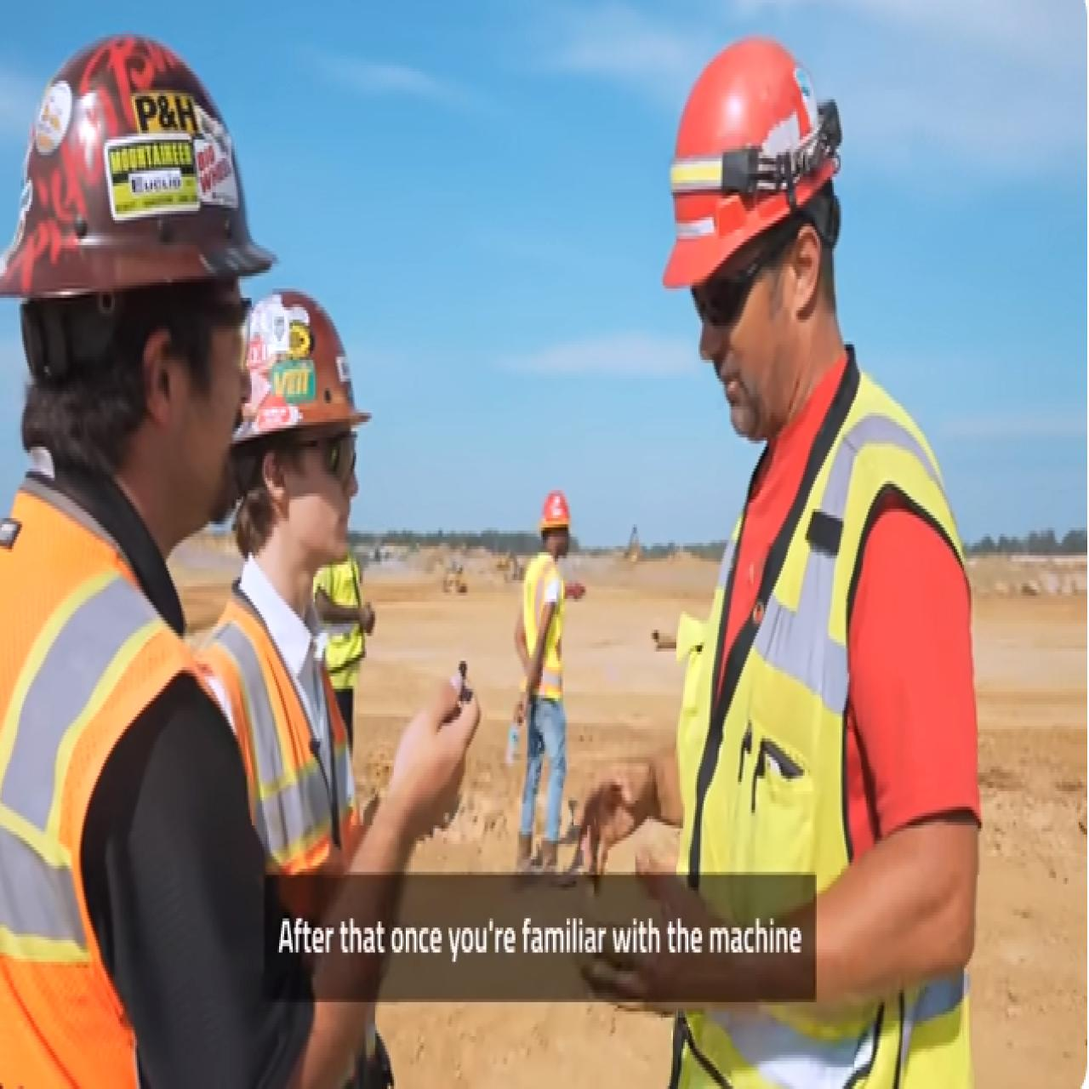Person: (0, 25, 492, 1089), (577, 19, 993, 1089), (185, 285, 390, 1089), (510, 478, 570, 878), (316, 546, 370, 763)
Safety_Vest: (659, 379, 974, 1089), (0, 467, 205, 1089), (200, 583, 363, 934), (519, 557, 566, 705), (319, 567, 368, 670)
